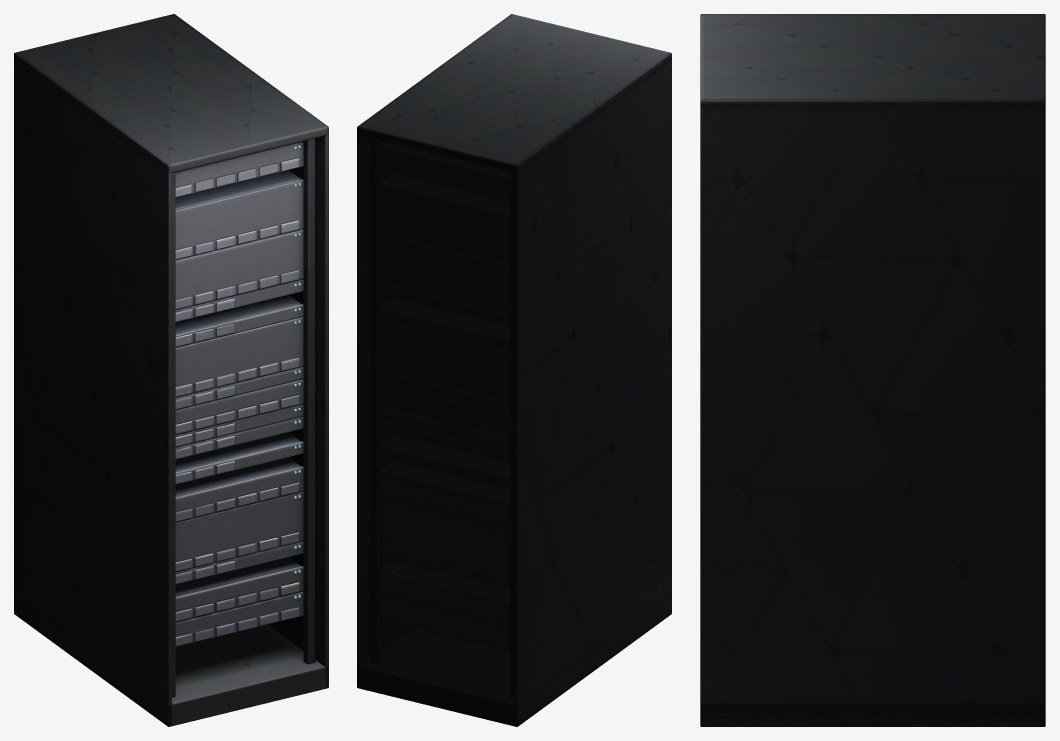
The model's file is server_rack_42u.glb.
3 views of the same model, side by side, from view 1: azimuth 30°, elevation 25°; view 2: azimuth 150°, elevation 25°; view 3: azimuth 270°, elevation 25° (orthographic). The views are drawn at different scales.
Parts seen in each view (by area): view 1: server_rack_42u; view 2: server_rack_42u; view 3: server_rack_42u.
Boxes of the visible parts, x1,y1,x2,y2 form: server_rack_42u: [14, 14, 328, 726]; server_rack_42u: [357, 14, 671, 726]; server_rack_42u: [700, 14, 1045, 726].
Bounding box in the file's own units: 0.6 × 2 × 1.
Materials: 1 (1 with a texture image).
